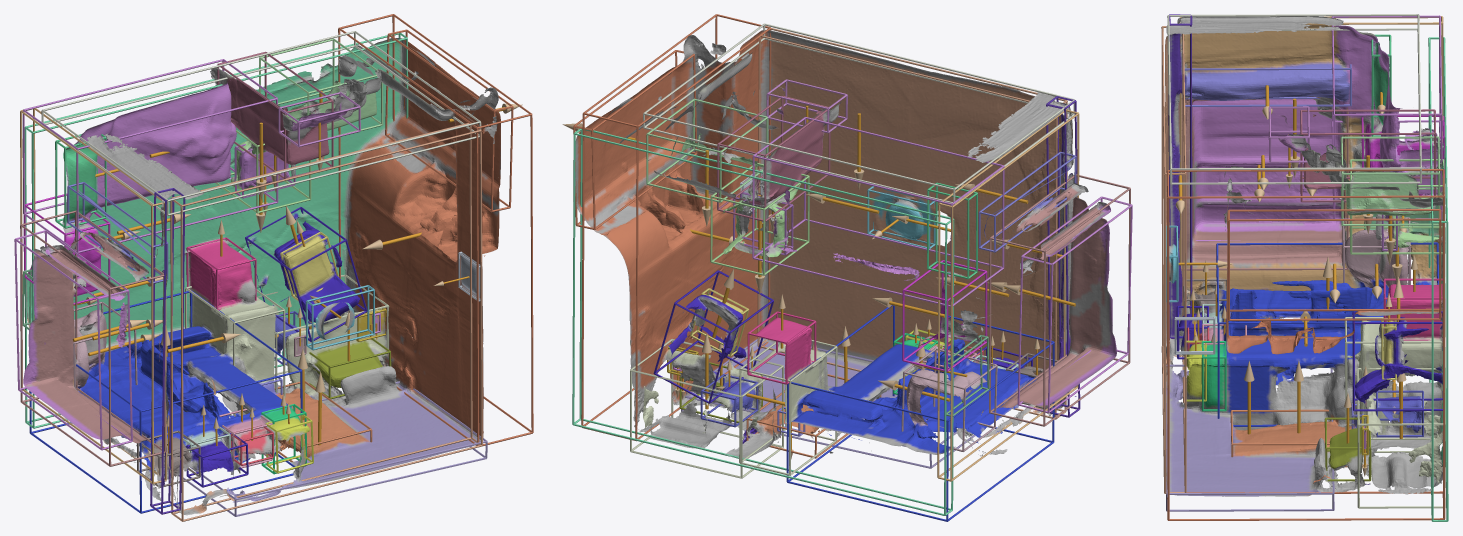
The model's file is scene_00128_05-obb.compressed.gltf.
3 views of the same model, side by side, from view 1: azimuth 30°, elevation 25°; view 2: azimuth 150°, elevation 25°; view 3: azimuth 270°, elevation 25° (orthographic). The views are drawn at different scales.
Size of the model in its own units: 5.43 by 3.8 by 2.65.
